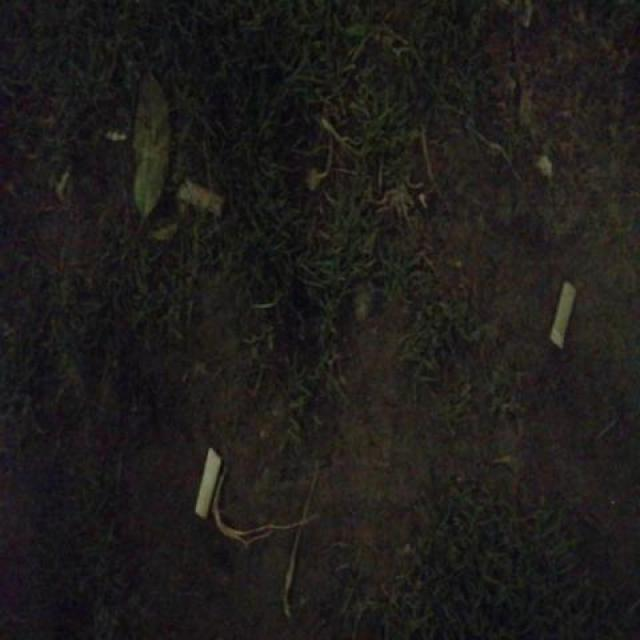non-organic waste: (190, 442, 226, 522), (173, 175, 227, 222), (547, 278, 581, 351)
